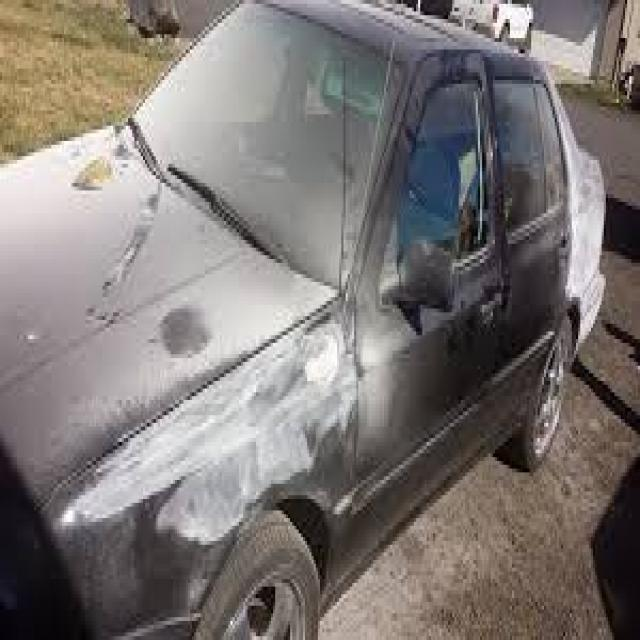minor: (88, 378, 373, 492)
